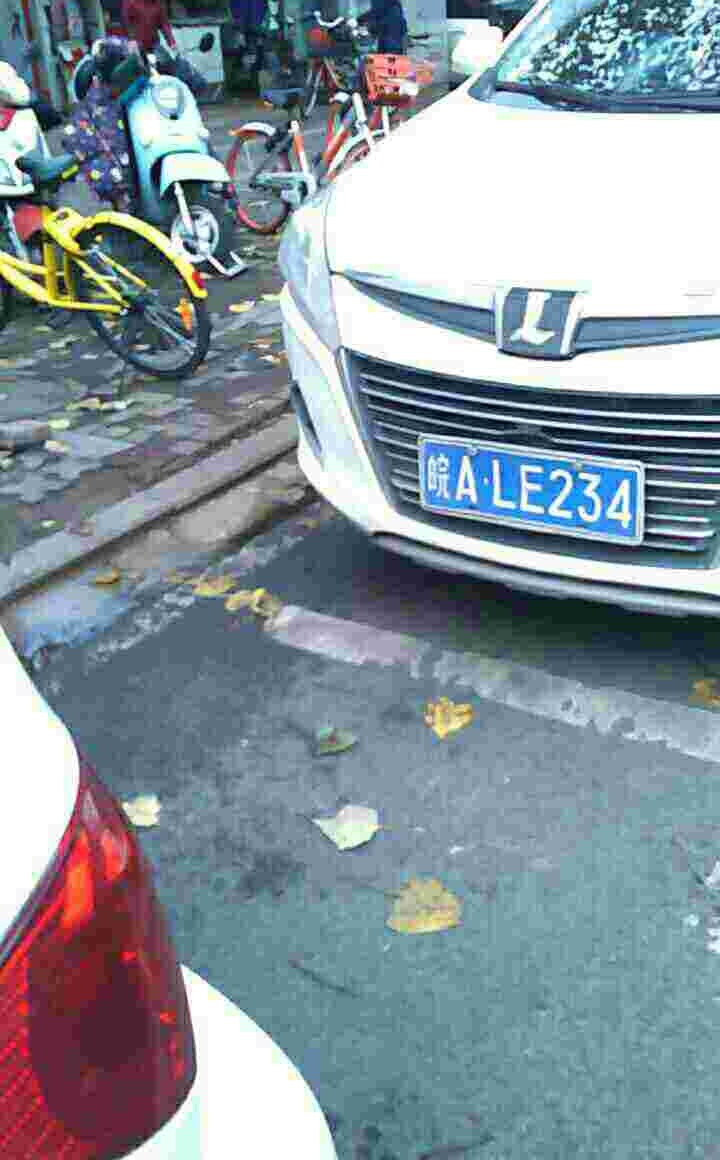license_plate: (415, 439, 650, 545)
